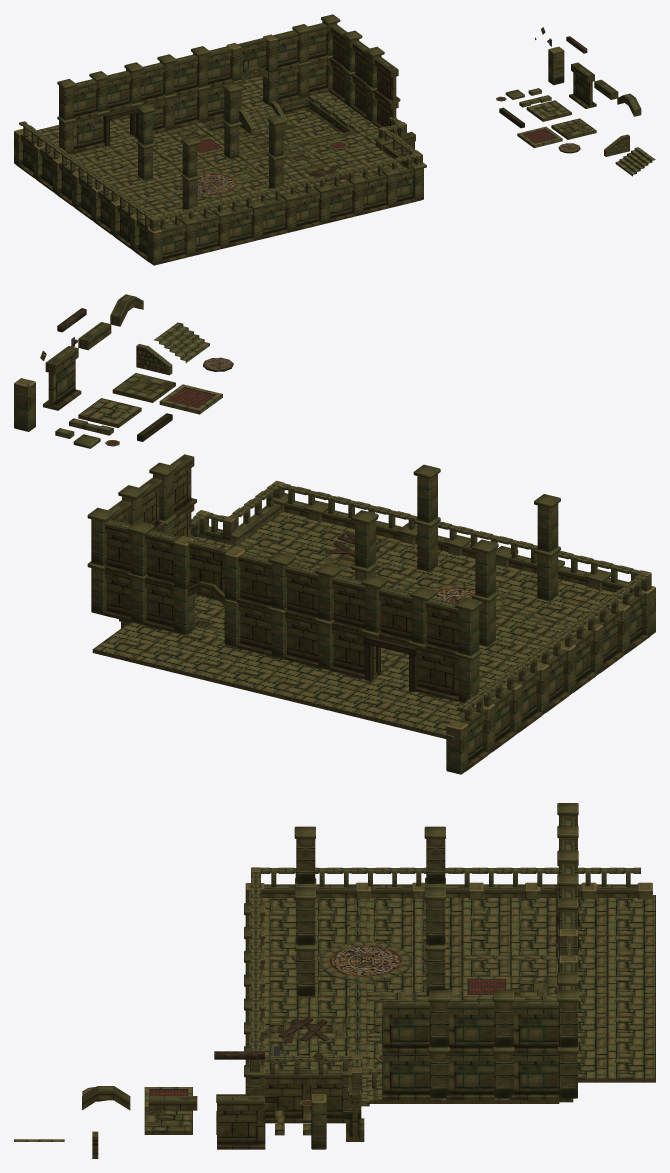
Rendered from modular_myan_inspired_dungeon.glb.
3 renders of one model, top to bottom at view 1: azimuth 30°, elevation 25°; view 2: azimuth 150°, elevation 25°; view 3: azimuth 270°, elevation 25°, orthographic. The views are drawn at different scales.
Visible parts, largest first — view 1: Cube.049 (9)_180, Cube.049 (28)_268, Cube.049 (27)_265, Cube.049 (26)_262, Cube.049 (40)_319, Cube.049 (25)_259, Cube.049 (12)_222, Cube.049 (22)_246, Cube.049_26, Cube.049 (8)_213, Cube.049 (24)_256, Cube.049 (13)_225 (+58 smaller); view 2: Cube.049 (9)_180, Cube.049 (24)_256, Cube.049 (27)_265, Cube.049 (28)_268, Cube.049 (25)_259, Cube.049_26, Cube.049 (26)_262, Cube.049_64, Cube.049 (29)_291, Cube.049 (23)_254, Cube.049 (1)_79, Cube.049 (2)_81 (+63 smaller); view 3: Cube.049_26, Cube.049 (22)_246, Cube.049 (20)_244, Cube.049 (21)_245, Cube.049 (7)_109, Cube.049 (5)_105, Cube.049 (6)_107, Cube.049 (16)_235, Circle_2, Cube.049 (17)_236, Cube.008 (57)_208, Cube.145_32 (+68 smaller).
Boxes of the visible parts, <box> form: Cube.049 (9)_180: <box>73,114,105,153</box>; Cube.049 (28)_268: <box>70,79,98,120</box>; Cube.049 (27)_265: <box>103,70,131,111</box>; Cube.049 (26)_262: <box>137,62,164,103</box>; Cube.049 (40)_319: <box>158,221,186,264</box>; Cube.049 (25)_259: <box>174,54,198,95</box>; Cube.049 (12)_222: <box>293,189,321,231</box>; Cube.049 (22)_246: <box>373,57,400,103</box>; Cube.049_26: <box>569,62,596,108</box>; Cube.049 (8)_213: <box>192,213,220,256</box>; Cube.049 (24)_256: <box>204,46,232,87</box>; Cube.049 (13)_225: <box>326,181,354,223</box>; Cube.049 (9)_180: <box>414,647,458,701</box>; Cube.049 (24)_256: <box>237,552,276,610</box>; Cube.049 (27)_265: <box>377,586,417,644</box>; Cube.049 (28)_268: <box>424,598,463,655</box>; Cube.049 (25)_259: <box>284,564,318,621</box>; Cube.049_26: <box>43,346,81,410</box>; Cube.049 (26)_262: <box>332,575,370,632</box>; Cube.049_64: <box>330,626,377,678</box>; Cube.049 (29)_291: <box>186,540,229,599</box>; Cube.049 (23)_254: <box>145,530,183,589</box>; Cube.049 (1)_79: <box>283,615,323,668</box>; Cube.049 (2)_81: <box>237,603,276,657</box>; Cube.049_26: <box>217,1096,265,1149</box>; Cube.049 (22)_246: <box>382,1000,430,1053</box>; Cube.049 (20)_244: <box>511,1000,559,1053</box>; Cube.049 (21)_245: <box>446,1000,494,1053</box>; Cube.049 (7)_109: <box>382,1053,430,1100</box>; Cube.049 (5)_105: <box>511,1053,559,1100</box>; Cube.049 (6)_107: <box>446,1053,494,1100</box>; Cube.049 (16)_235: <box>264,1069,310,1123</box>; Circle_2: <box>328,945,402,976</box>; Cube.049 (17)_236: <box>311,1069,345,1123</box>; Cube.008 (57)_208: <box>607,1058,655,1082</box>; Cube.145_32: <box>144,1111,192,1134</box>.
Bounding box in the file's own units: 45.24 × 12.15 × 39.84.
1 material, 1 textured.
